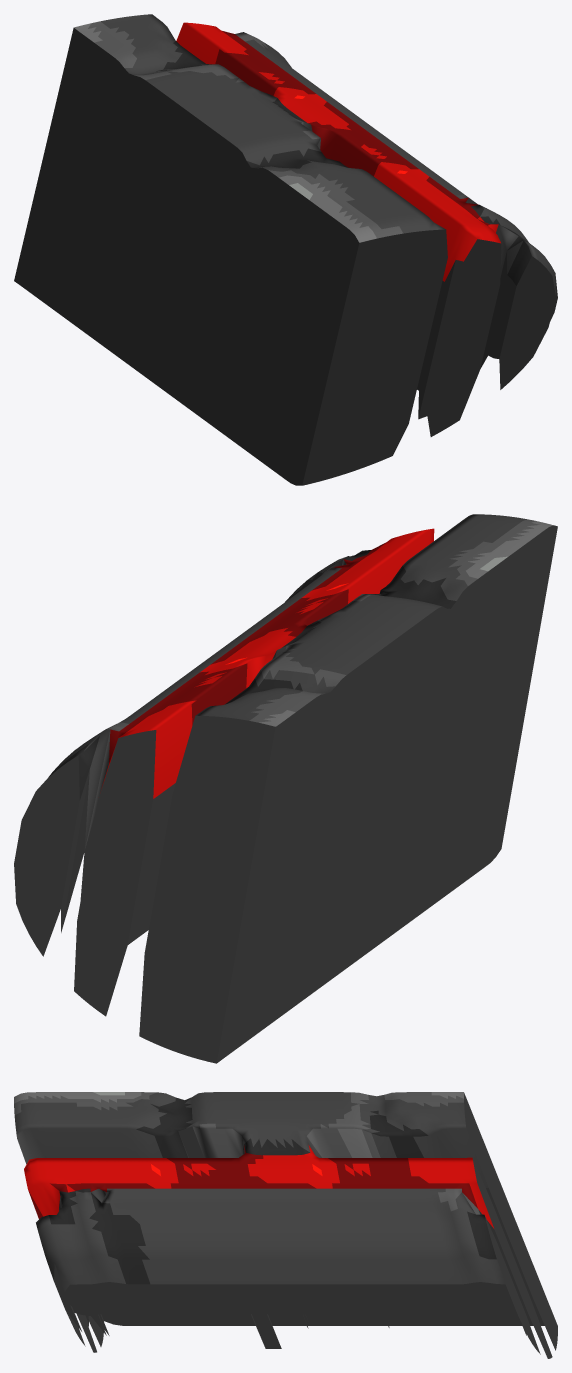
Rendered from grey_capsule_mr.glb.
The picture shows the model from 3 angles, top to bottom: view 1: azimuth 30°, elevation 25°; view 2: azimuth 150°, elevation 25°; view 3: azimuth 270°, elevation 25°; orthographic projection. The views are drawn at different scales.
Visible parts, largest first — view 1: grey_capsule_mr; view 2: grey_capsule_mr; view 3: grey_capsule_mr.
Boxes of the visible parts, x1=… form: grey_capsule_mr: x1=14, y1=14, x2=557, y2=485; grey_capsule_mr: x1=14, y1=514, x2=557, y2=1063; grey_capsule_mr: x1=14, y1=1092, x2=557, y2=1358.
Bounding box in the file's own units: 13 × 16.01 × 33.71.
